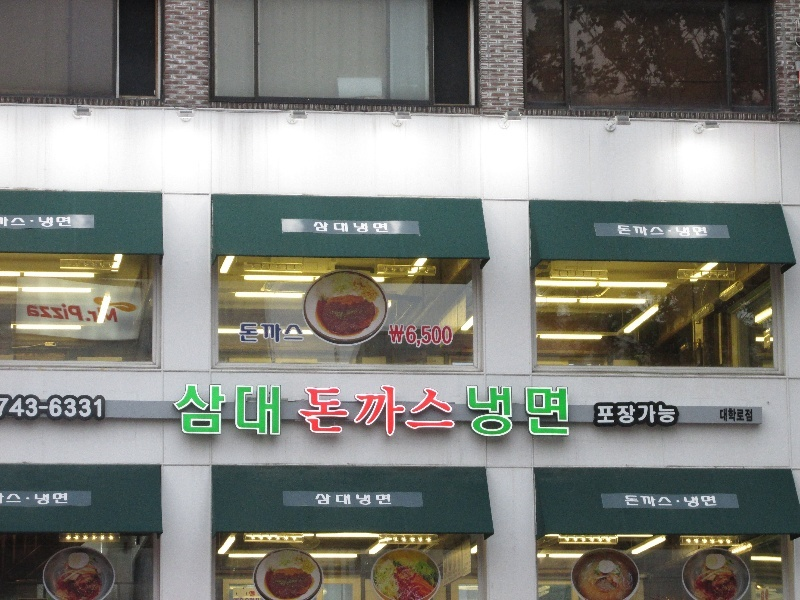text: (193, 382, 208, 446), (209, 382, 224, 446), (225, 382, 240, 446), (241, 382, 256, 446), (257, 382, 272, 446), (273, 382, 288, 446), (305, 383, 320, 444), (321, 383, 336, 444), (337, 383, 352, 444), (353, 383, 368, 444), (369, 383, 384, 444), (385, 383, 400, 444), (401, 383, 416, 444), (417, 383, 432, 444), (433, 383, 448, 444), (465, 384, 480, 445), (481, 384, 496, 445), (497, 384, 512, 445), (513, 384, 528, 445), (529, 384, 544, 445), (545, 384, 560, 445), (178, 382, 192, 446), (561, 384, 575, 445), (293, 383, 304, 444), (33, 290, 48, 332), (49, 290, 64, 332), (65, 290, 80, 332), (81, 290, 96, 332), (97, 290, 112, 332), (449, 383, 459, 444), (385, 318, 400, 357), (401, 318, 416, 357), (417, 318, 432, 357), (433, 318, 448, 357), (20, 290, 32, 332), (113, 290, 125, 332), (1, 394, 16, 424), (17, 394, 32, 424), (33, 394, 48, 424), (49, 394, 64, 424), (65, 394, 80, 424), (81, 394, 96, 424), (241, 318, 256, 348), (257, 318, 272, 348), (273, 318, 288, 348), (289, 318, 304, 348), (593, 402, 608, 431), (609, 402, 624, 431), (625, 402, 640, 431), (641, 402, 656, 431), (657, 402, 672, 431), (449, 318, 459, 357), (33, 489, 48, 511), (49, 489, 64, 511), (321, 491, 336, 513), (337, 491, 352, 513), (353, 491, 368, 513), (369, 491, 384, 513), (689, 224, 704, 245), (721, 407, 736, 427), (737, 407, 752, 427), (674, 224, 688, 245), (673, 402, 683, 431), (321, 218, 336, 236), (337, 218, 352, 236), (353, 218, 368, 236), (369, 218, 384, 236), (49, 215, 64, 232), (625, 223, 640, 240), (641, 223, 656, 240), (385, 491, 396, 513), (97, 394, 105, 424), (232, 318, 240, 348), (625, 495, 640, 510), (641, 495, 656, 510), (657, 495, 672, 510), (689, 495, 704, 510), (705, 495, 719, 510), (612, 223, 624, 240), (4, 492, 16, 509), (309, 218, 320, 236), (311, 491, 320, 513), (37, 215, 48, 232), (461, 384, 464, 445), (65, 215, 75, 232), (17, 215, 28, 229), (65, 489, 72, 511), (657, 223, 666, 240), (385, 218, 393, 236), (705, 224, 711, 245), (17, 492, 24, 509), (9, 215, 16, 229), (305, 318, 308, 348), (753, 407, 757, 427), (683, 495, 688, 510), (289, 382, 290, 446), (621, 495, 624, 510), (673, 495, 676, 510), (718, 407, 720, 427), (591, 402, 592, 431)
